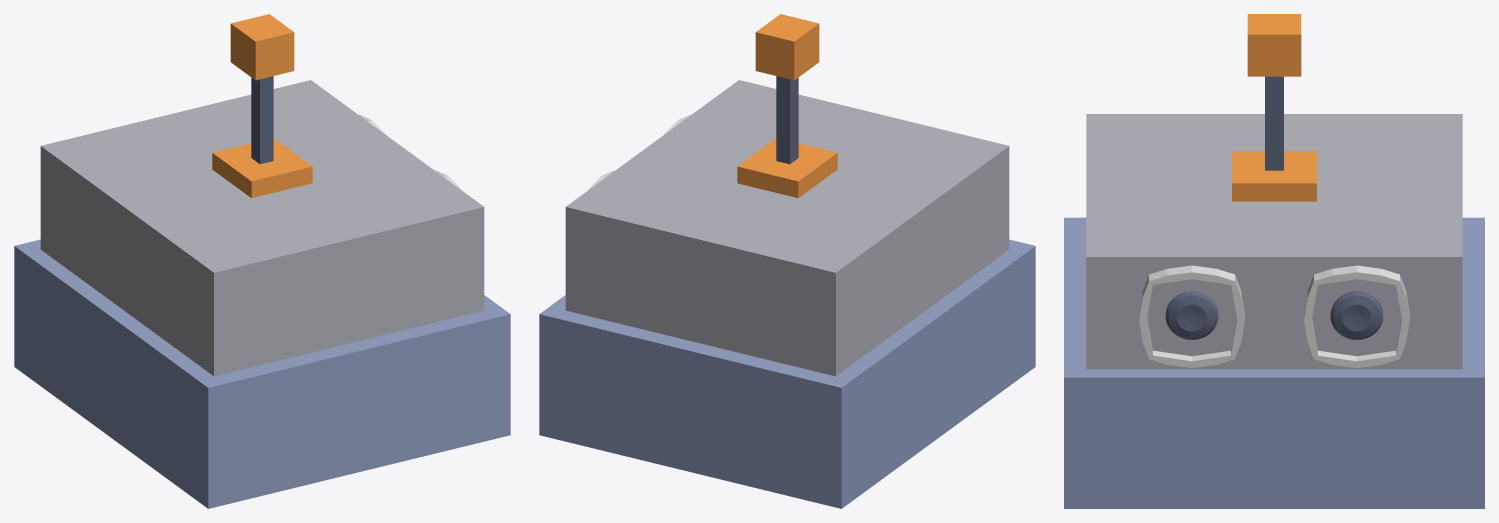
File: lds.dae
3 views of the same model, side by side, from view 1: azimuth 30°, elevation 25°; view 2: azimuth 150°, elevation 25°; view 3: azimuth 270°, elevation 25° (orthographic). The views are drawn at different scales.
Parts seen in each view (by area): view 1: Cube; view 2: Cube; view 3: Cube.
Part boxes in pixels (bbox=[...]): Cube: bbox=[14, 14, 510, 508]; Cube: bbox=[539, 14, 1035, 508]; Cube: bbox=[1064, 14, 1484, 508].
Bounding box in the file's own units: 68.86 × 76.56 × 81.25.
